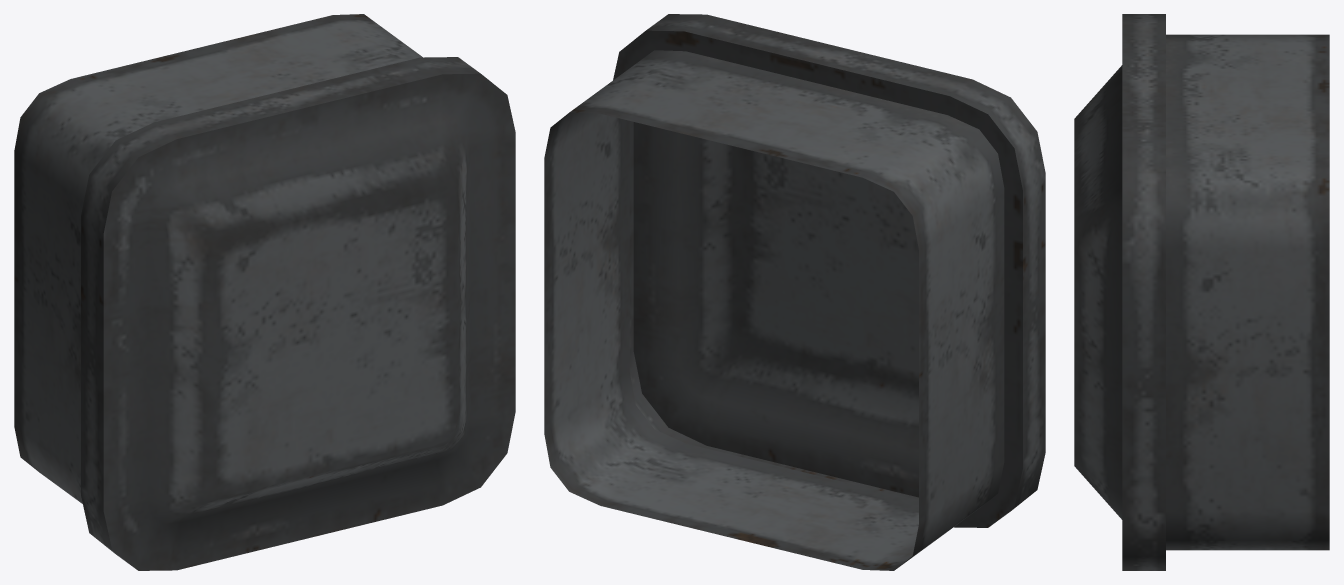
Rendered from CableBox.FBX.
3 renders of one model, left to right at view 1: azimuth 30°, elevation 25°; view 2: azimuth 150°, elevation 25°; view 3: azimuth 270°, elevation 25°, orthographic. The views are drawn at different scales.
Visible parts, largest first — view 1: CableBox; view 2: CableBox; view 3: CableBox.
Part boxes in pixels (box(x1,y1,x2,y2)): CableBox: box(14, 14, 515, 570); CableBox: box(544, 14, 1045, 570); CableBox: box(1074, 14, 1329, 570).
Size of the model in its own units: 11 by 11 by 6.16.
